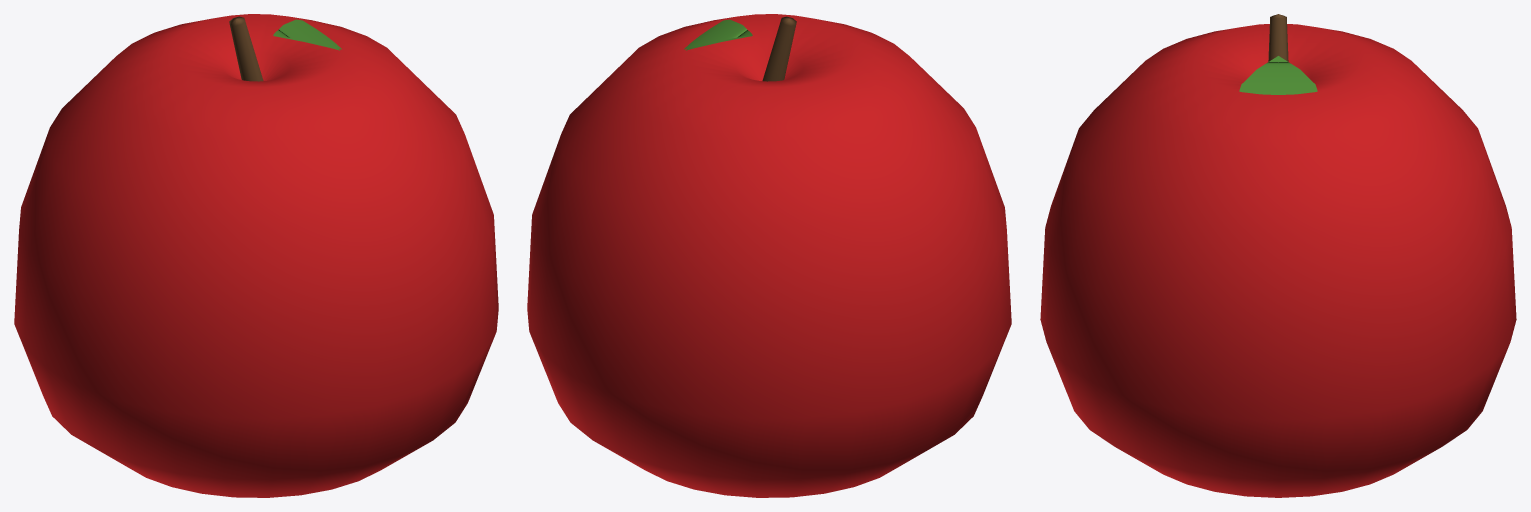
The model's file is apple.glb.
3 renders of one model, left to right at view 1: azimuth 30°, elevation 25°; view 2: azimuth 150°, elevation 25°; view 3: azimuth 270°, elevation 25°, orthographic. The views are drawn at different scales.
Parts seen in each view (by area): view 1: package_mesh; view 2: package_mesh; view 3: package_mesh.
Part boxes in pixels (x1=…): package_mesh: x1=14, y1=14, x2=498, y2=497; package_mesh: x1=527, y1=14, x2=1011, y2=497; package_mesh: x1=1040, y1=14, x2=1516, y2=497.
Size of the model in its own units: 0.3149 by 0.3095 by 0.3149.
